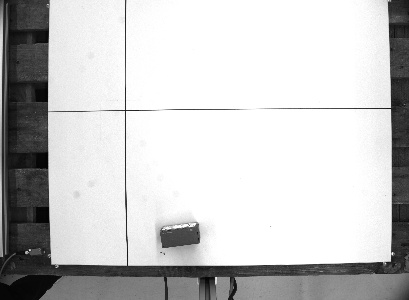b3: (156, 220, 203, 250)
